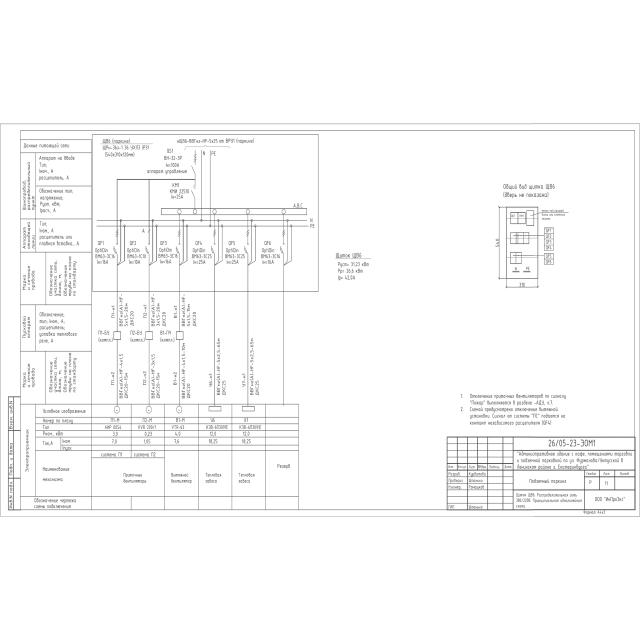-: (101, 144, 150, 158), (226, 247, 246, 266), (158, 247, 178, 265), (260, 248, 280, 266), (192, 248, 212, 266), (95, 248, 115, 266), (127, 247, 147, 265), (168, 188, 190, 200), (164, 154, 182, 168)
KM: (191, 184, 196, 200)
QF: (112, 228, 120, 256), (174, 228, 182, 255), (243, 228, 250, 256), (210, 228, 217, 256), (280, 228, 286, 256), (145, 229, 151, 255)
QS: (190, 162, 197, 175)
